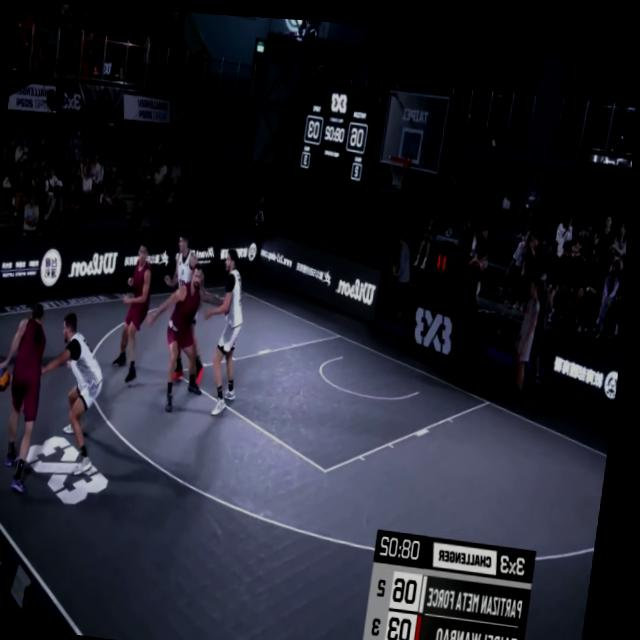ball: (0, 356, 20, 395)
hoop: (384, 145, 415, 191)
player: (31, 308, 117, 485), (139, 251, 220, 415), (0, 298, 57, 488), (203, 239, 259, 416), (156, 222, 214, 382), (114, 236, 160, 382)
